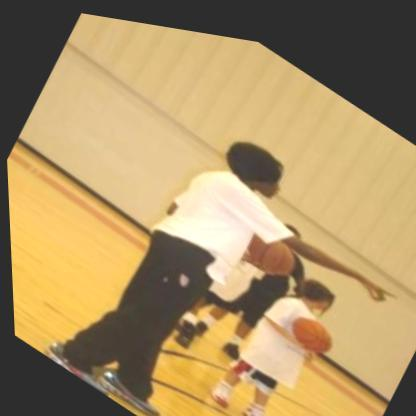basketball: (237, 209, 302, 279), (285, 299, 333, 348)
